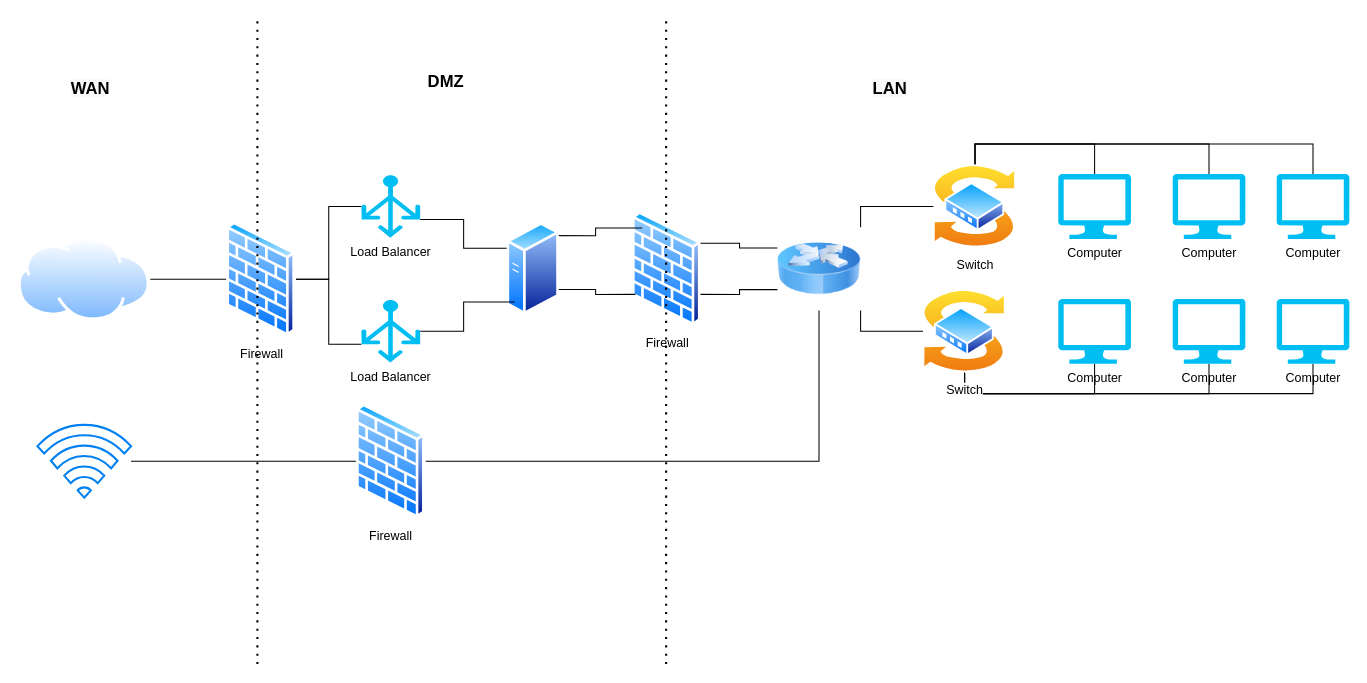
This 1367x683 diagram has some shape labels left out. The shapes that lost their labels are listed below. From the top down, each one's centre as x and y in pixels, then its label:
the point at 84,278: Internet
the point at 532,268: Server
the point at 818,268: Router
the point at 84,460: Wireless Access Point
